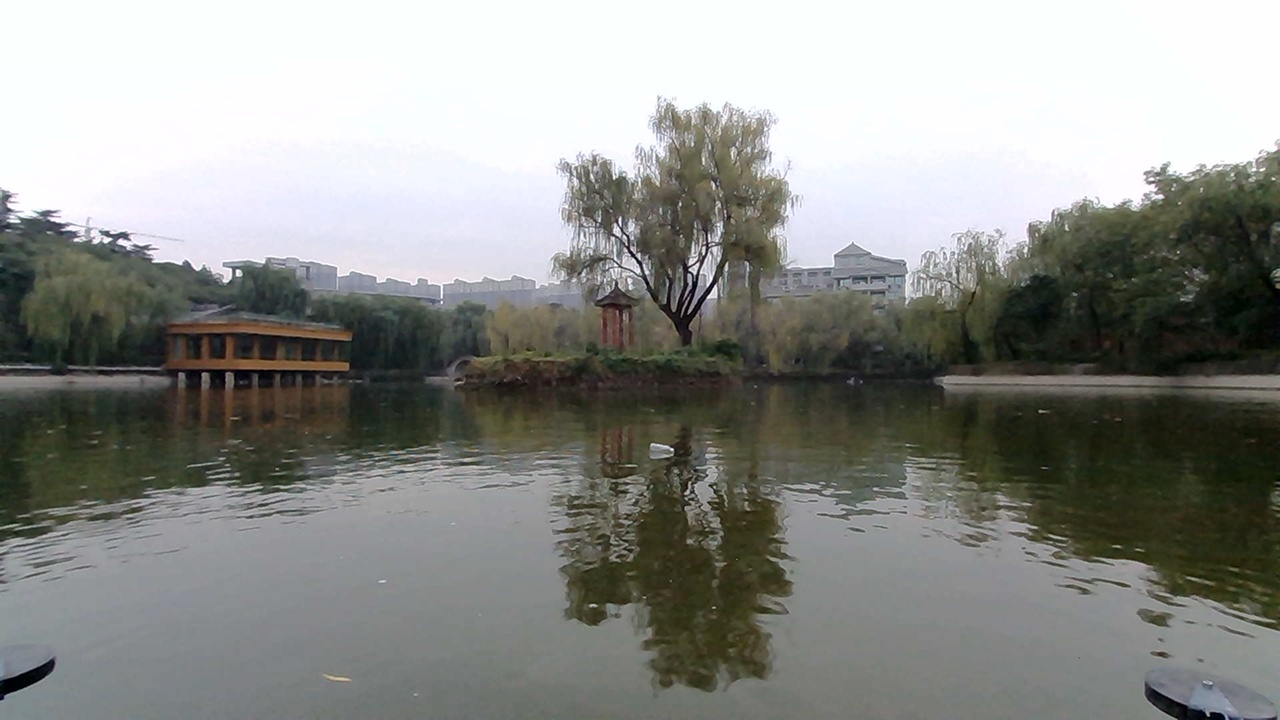bottle: (633, 429, 697, 462)
